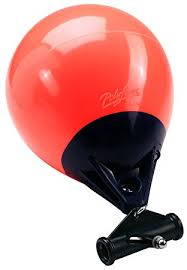buoy: (7, 4, 174, 184)
